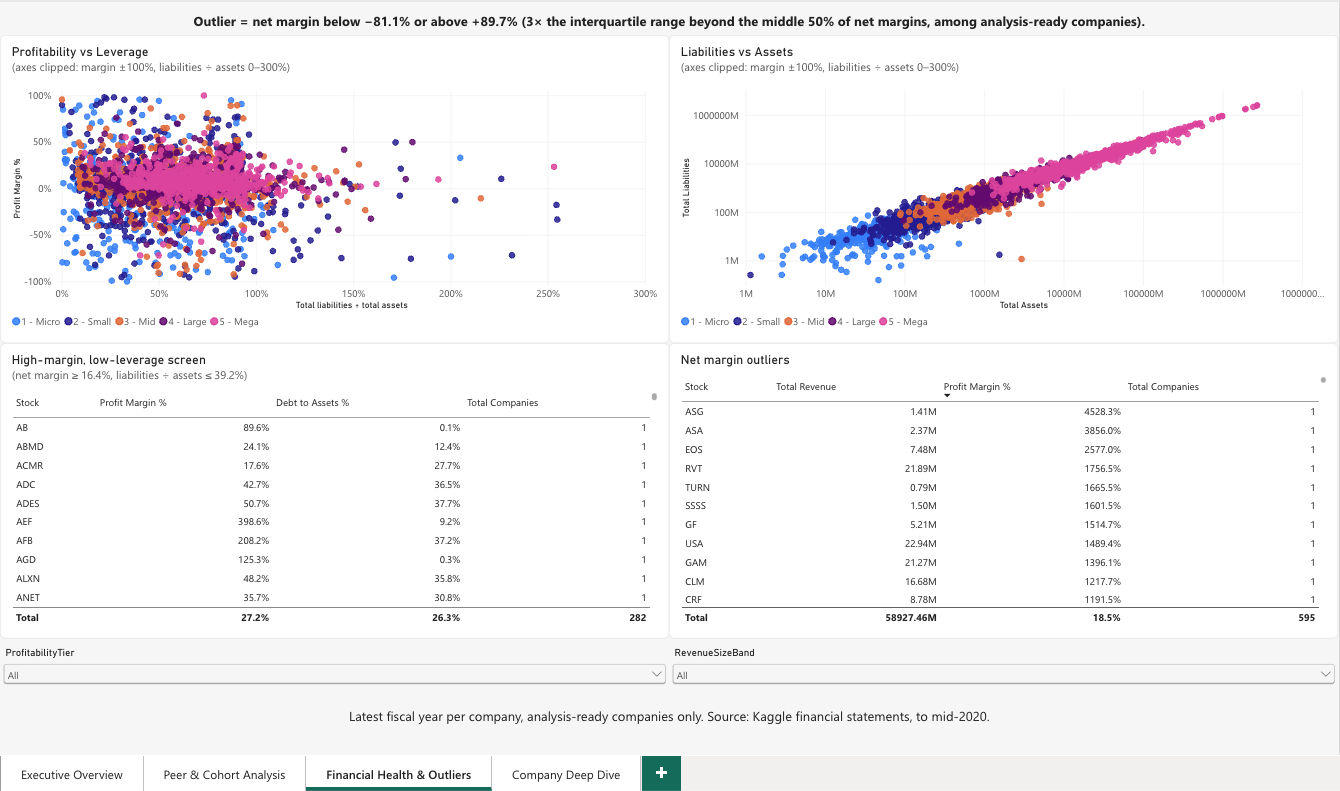

What the dashboard file says about the page in this screenshot:
{"tool":"powerbi","page":{"name":"Financial Health & Outliers","canvas":[1920,1080],"ordinal":2},"visuals":[{"type":"textbox","box":[0,14.4,1920,32.4],"z":0},{"type":"slicer","fields":{"Values":["dim_company.RevenueSizeBand"]},"box":[960,925.8,960,73.7],"z":0,"group":"g1"},{"type":"slicer","fields":{"Values":["dim_company.ProfitabilityTier"]},"box":[0,925.8,960,73.7],"z":1000,"group":"g1"},{"type":"textbox","box":[0,1011.3,1920,49.5],"z":1000},{"type":"group","id":"g1","title":"Group 1","box":[0,925.8,1920,73.7],"z":2000},{"type":"scatterChart","title":"Profitability vs Leverage","fields":{"Category":["dim_company.Stock"],"Series":["dim_company.RevenueSizeBand"],"X":["fact_annual.Debt to Assets %"],"Y":["fact_annual.Profit Margin %"]},"box":[0,46.7,960,442.2],"z":3000},{"type":"scatterChart","title":"Liabilities vs Assets","fields":{"Category":["dim_company.Stock"],"Series":["dim_company.RevenueSizeBand"],"X":["fact_annual.Total Assets"],"Y":["fact_annual.Total Liabilities"]},"box":[960,46.7,960,442.2],"z":4000},{"type":"tableEx","title":"High-margin, low-leverage screen","fields":{"Values":["dim_company.Stock","fact_annual.Profit Margin %","fact_annual.Debt to Assets %","fact_annual.Total Companies"]},"box":[0,489,960,424.3],"z":5000},{"type":"tableEx","title":"Net margin outliers","fields":{"Values":["dim_company.Stock","fact_annual.Total Revenue","fact_annual.Profit Margin %","fact_annual.Total Companies"]},"box":[960,489,960,424],"z":6000}]}

Visuals, with their boxes on the page's 1920x1080 design canvas (x1, y1, x2, y2). These are canvas units, not pixel positions in the 1340x791 screenshot, which may show the page scaled, cropped or inside an application window:
textbox: x1=0 y1=14 x2=1920 y2=47
slicer - dim_company.RevenueSizeBand: x1=960 y1=926 x2=1920 y2=1000
slicer - dim_company.ProfitabilityTier: x1=0 y1=926 x2=960 y2=1000
textbox: x1=0 y1=1011 x2=1920 y2=1061
"Group 1" group: x1=0 y1=926 x2=1920 y2=1000
"Profitability vs Leverage" scatterChart: x1=0 y1=47 x2=960 y2=489
"Liabilities vs Assets" scatterChart: x1=960 y1=47 x2=1920 y2=489
"High-margin, low-leverage screen" tableEx: x1=0 y1=489 x2=960 y2=913
"Net margin outliers" tableEx: x1=960 y1=489 x2=1920 y2=913
